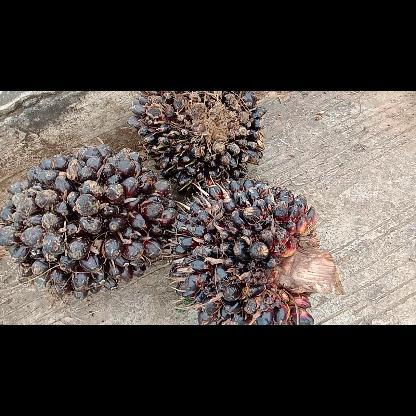TBS mentah: (0, 141, 180, 301), (168, 176, 346, 324), (124, 91, 270, 193)
